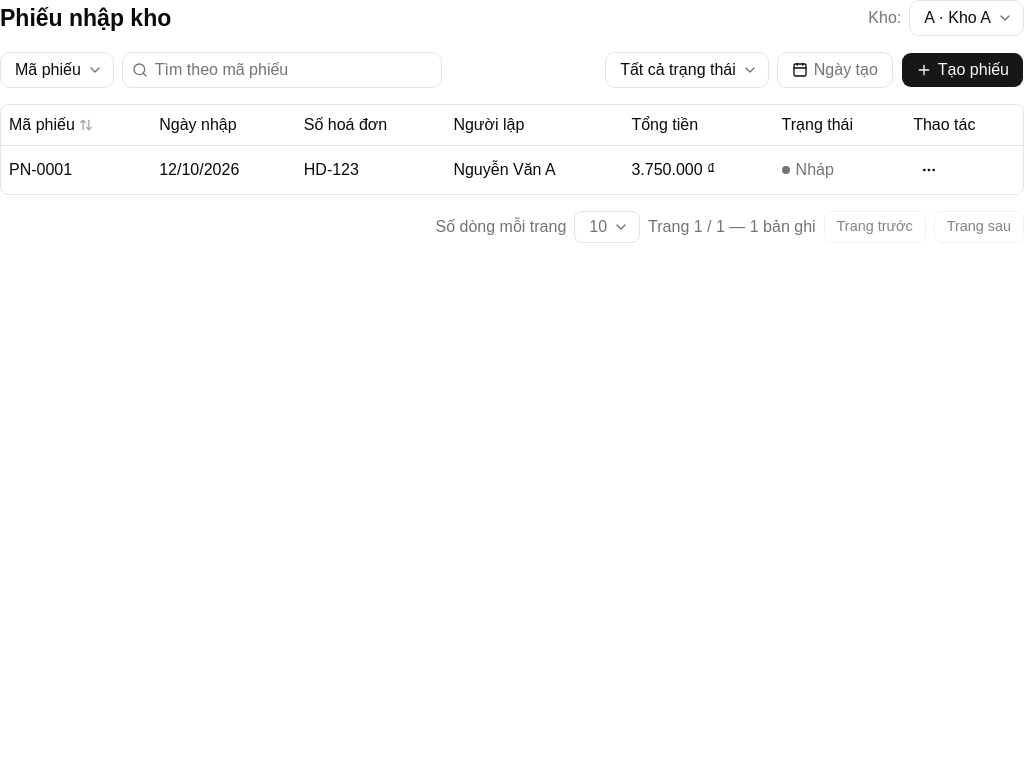
Test: ImportFormsPage › sheet tạo, có MATERIAL_READ → ô vật tư true nút "Thêm vật tư vào kho…"
This screenshot has width=1024, height=768.
Step 1. Click the button "Tạo phiếu" → [962, 70], box [901,52,1023,88]
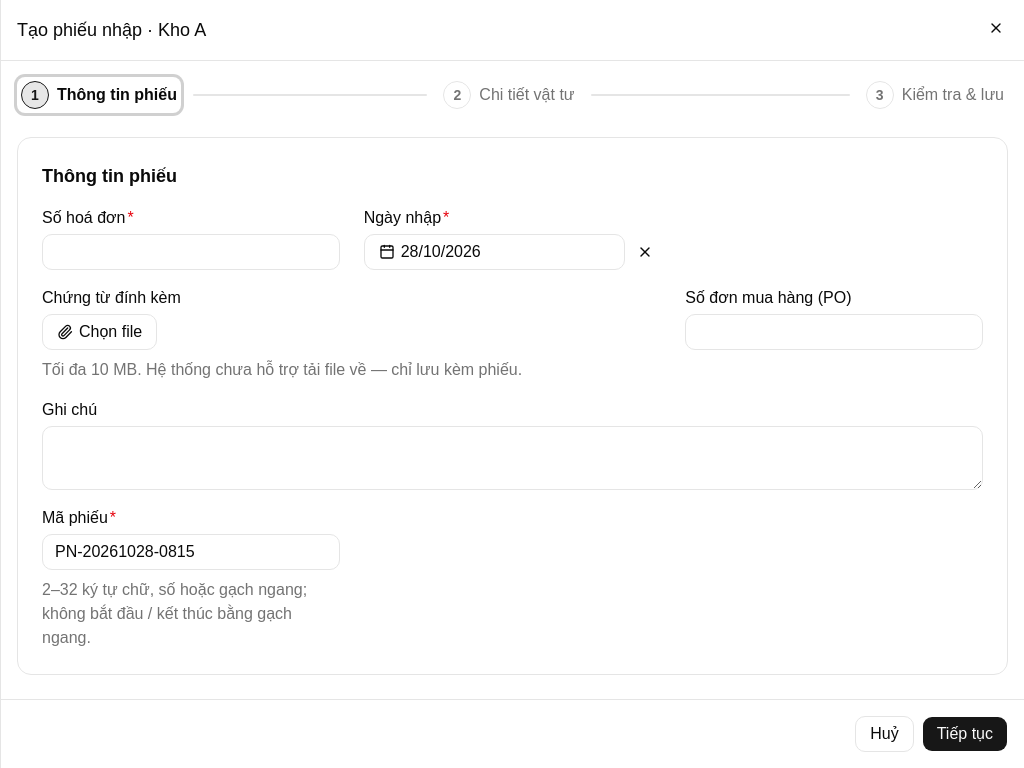
// Dòng vật tư ở bước ②: qua ① trước (số hoá đơn bắt buộc).
Step 2. Type "HD-9" into the field labelled "Số hoá đơn *" → [191, 252], box [42,234,340,270]
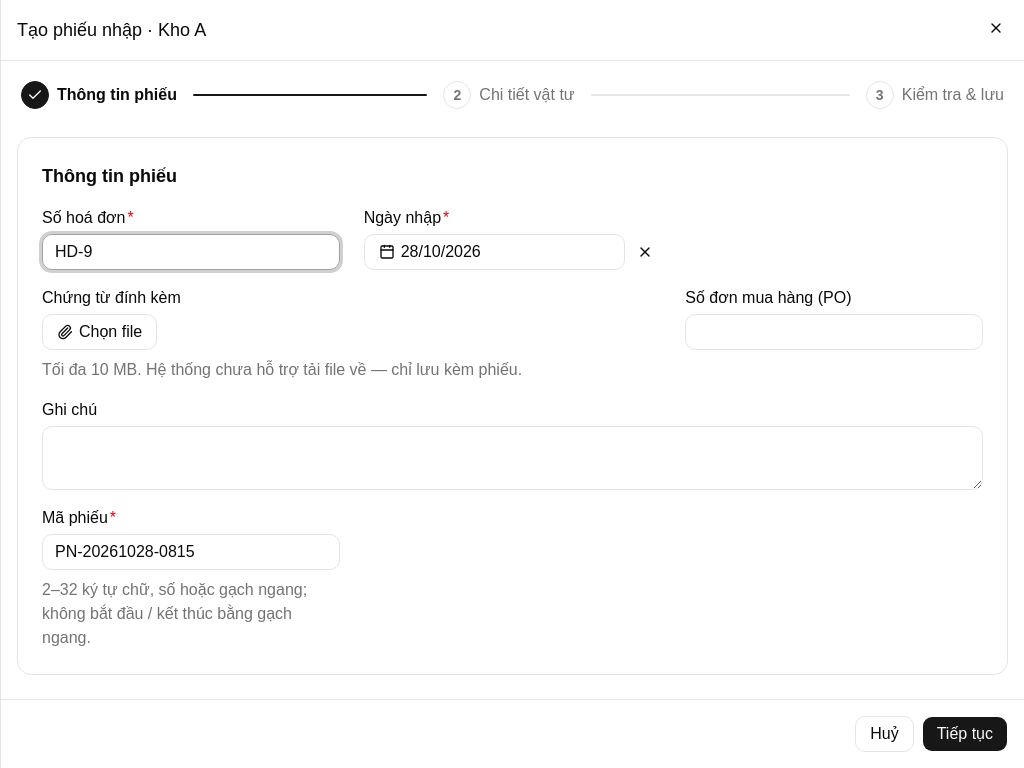
Step 3. Click the button "Tiếp tục" → [965, 734], box [922,716,1008,752]
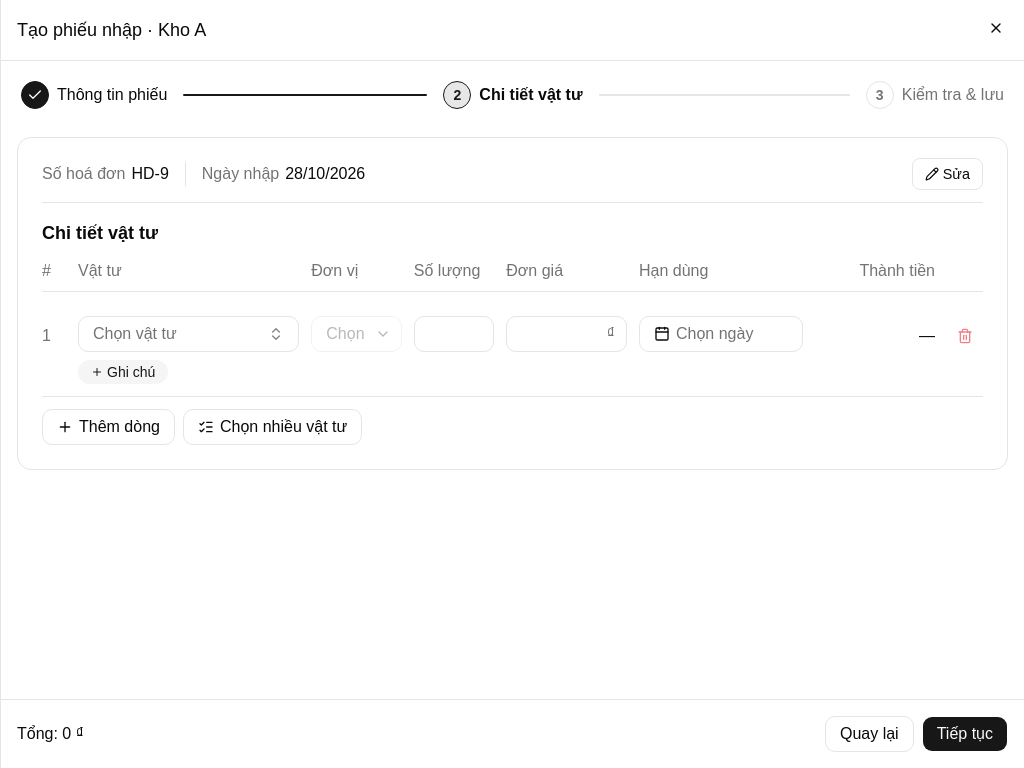
Step 4. Click the dropdown named "Vật tư dòng 1" → [189, 334], box [78,316,299,352]
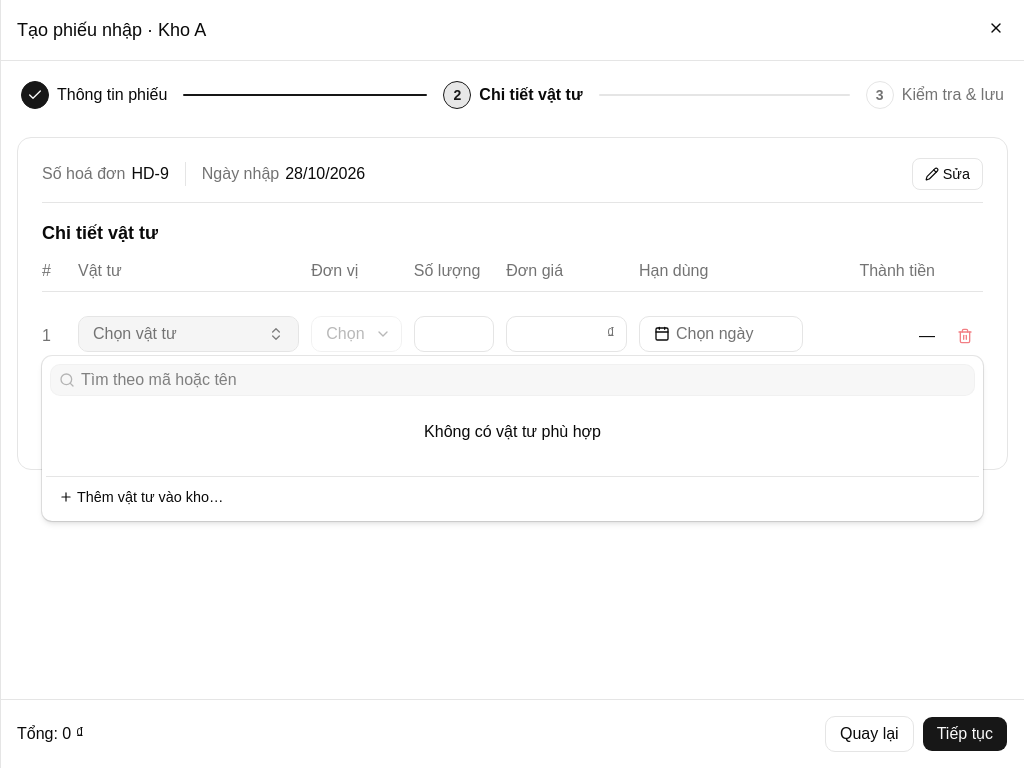
Expected: the button "Thêm vật tư vào kho…" is shown, [50,481,975,513]
